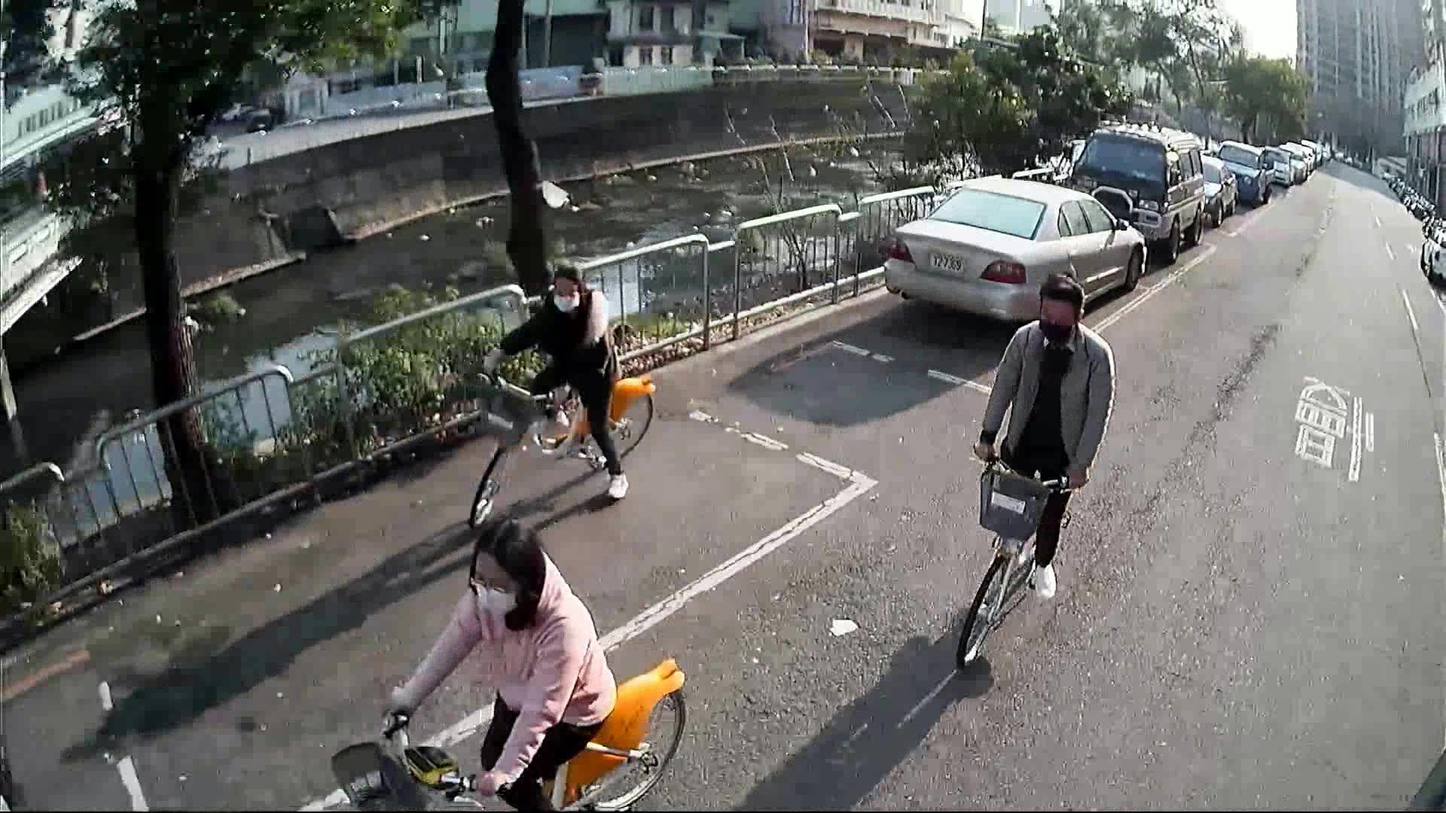person: (375, 514, 623, 811), (972, 266, 1118, 607), (476, 258, 630, 504)
